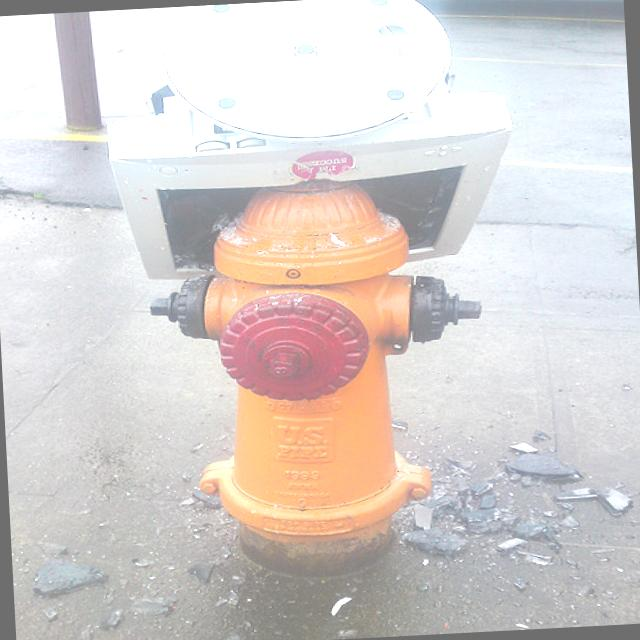Vehicle: (290, 0, 623, 25)
